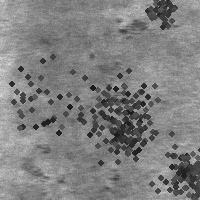rolled-in_scale: (61, 52, 169, 160), (0, 41, 87, 147), (83, 87, 167, 171), (137, 132, 200, 200), (88, 55, 128, 135), (17, 140, 66, 189), (158, 143, 200, 195), (133, 0, 185, 30), (113, 15, 157, 40)
